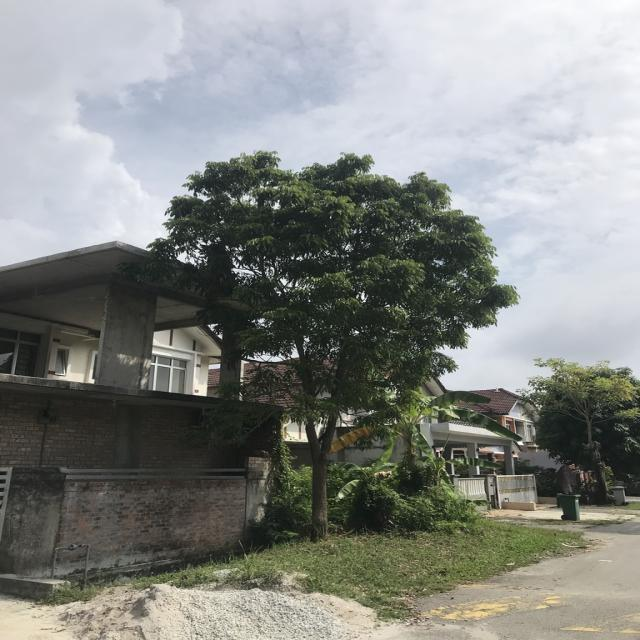Mango-Tree: (185, 161, 518, 545)
